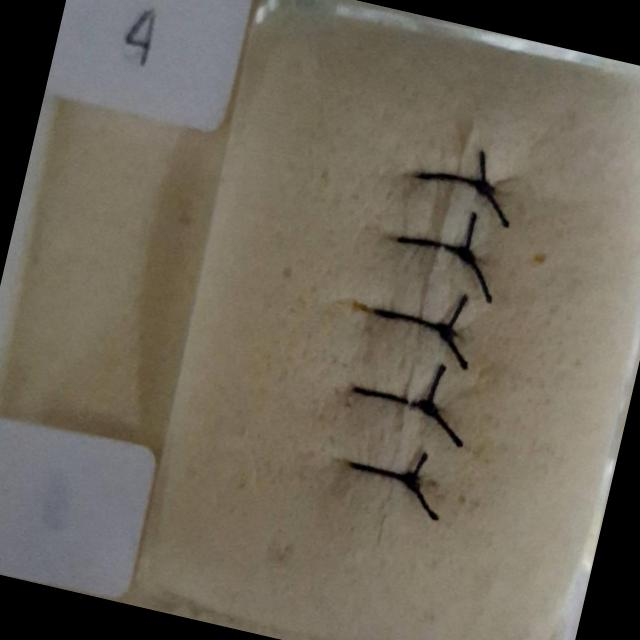knot: (417, 400, 438, 416), (401, 474, 418, 492), (457, 247, 474, 265), (473, 180, 492, 196), (437, 325, 454, 341)
leftover: (425, 403, 465, 449), (477, 181, 510, 229), (407, 478, 440, 522), (466, 254, 493, 306), (442, 289, 468, 334), (423, 361, 446, 410), (442, 328, 467, 372), (460, 209, 476, 259), (408, 450, 429, 484), (478, 147, 487, 188)
stitch: (370, 306, 458, 337), (350, 385, 441, 414), (393, 236, 477, 263), (346, 460, 420, 486), (414, 171, 496, 191)
wound: (372, 116, 477, 544)
